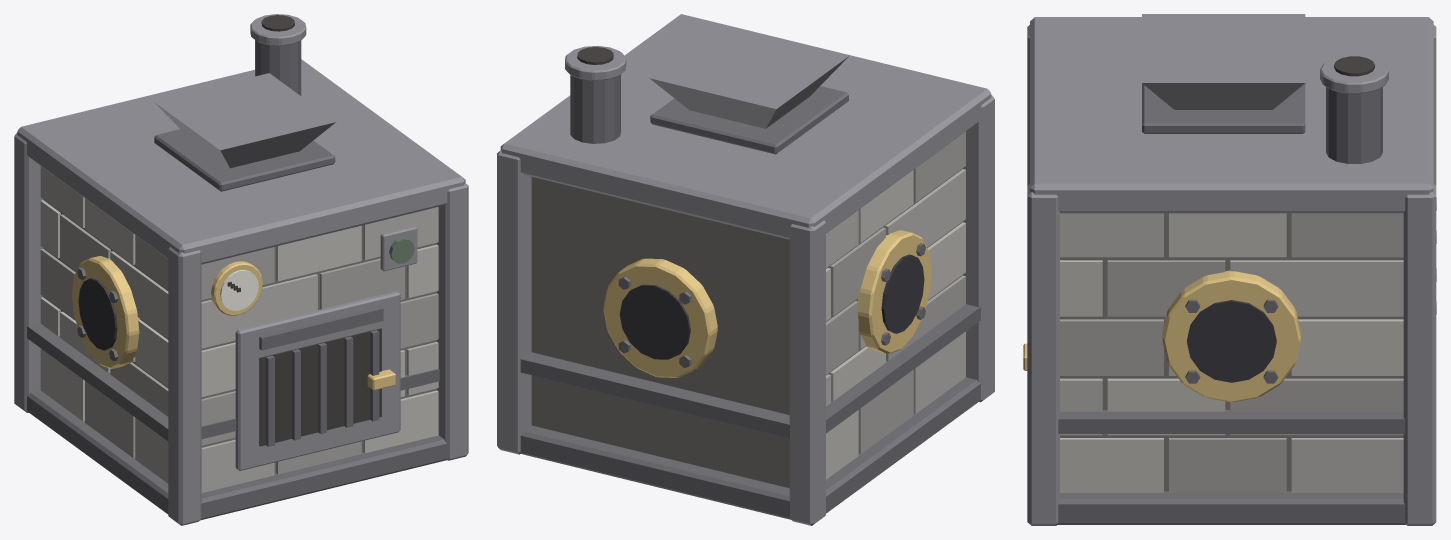
File: autofurnace.gltf
3 renders of one model, left to right at view 1: azimuth 30°, elevation 25°; view 2: azimuth 150°, elevation 25°; view 3: azimuth 270°, elevation 25°, orthographic. The views are drawn at different scales.
Parts seen in each view (by area): view 1: Autofurnace; view 2: Autofurnace; view 3: Autofurnace.
Part boxes in pixels (box(x1,y1,x2,y2)): Autofurnace: box(14, 14, 468, 525); Autofurnace: box(497, 14, 994, 525); Autofurnace: box(1023, 14, 1436, 525).
Bounding box in the file's own units: 1 × 1.16 × 1.01.
